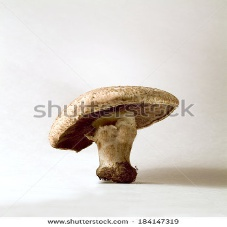mushroom: (49, 86, 183, 185)
